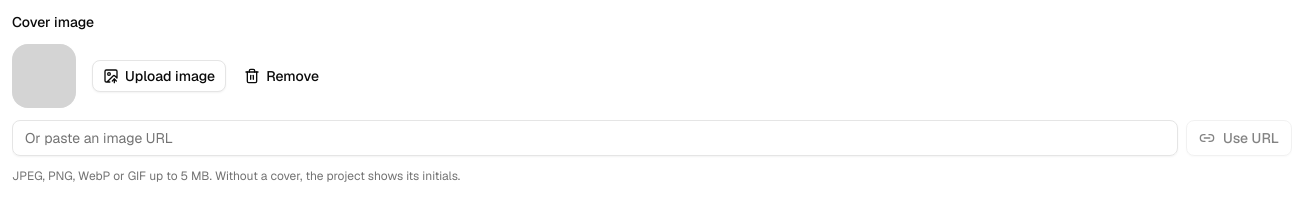
Test: ProjectCoverEditor › removes an existing cover
Click the button "Remove".
click(282, 76)  # box [234,60,329,92]
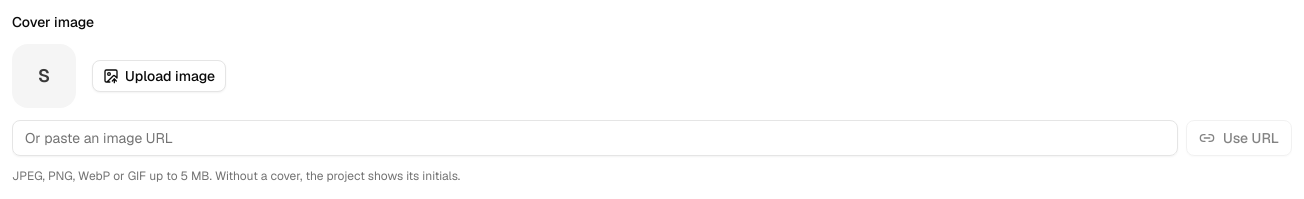
Check: the picture is gone
Check: the button "Remove" is gone
